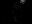person: (19, 0, 26, 4)
